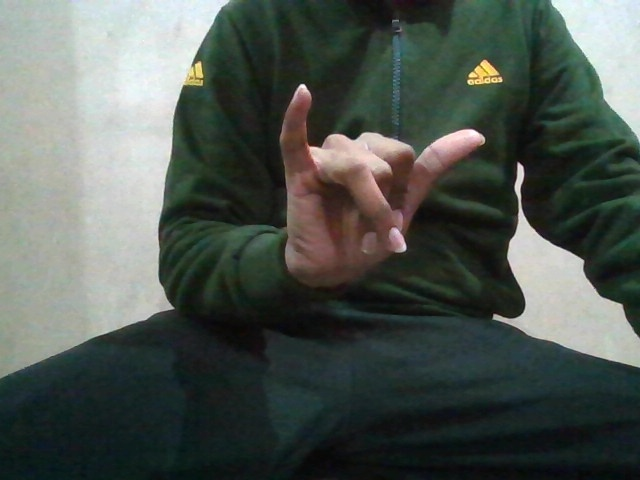Y: (268, 85, 482, 271)
